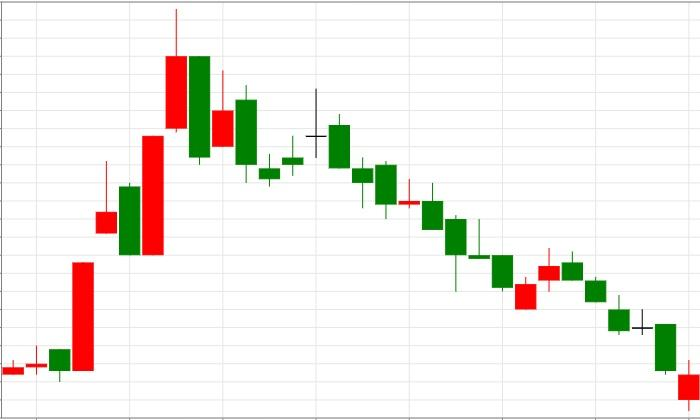shooting_star_fall: (2, 160, 118, 382)
three_black_crows_fall: (514, 248, 631, 334)
